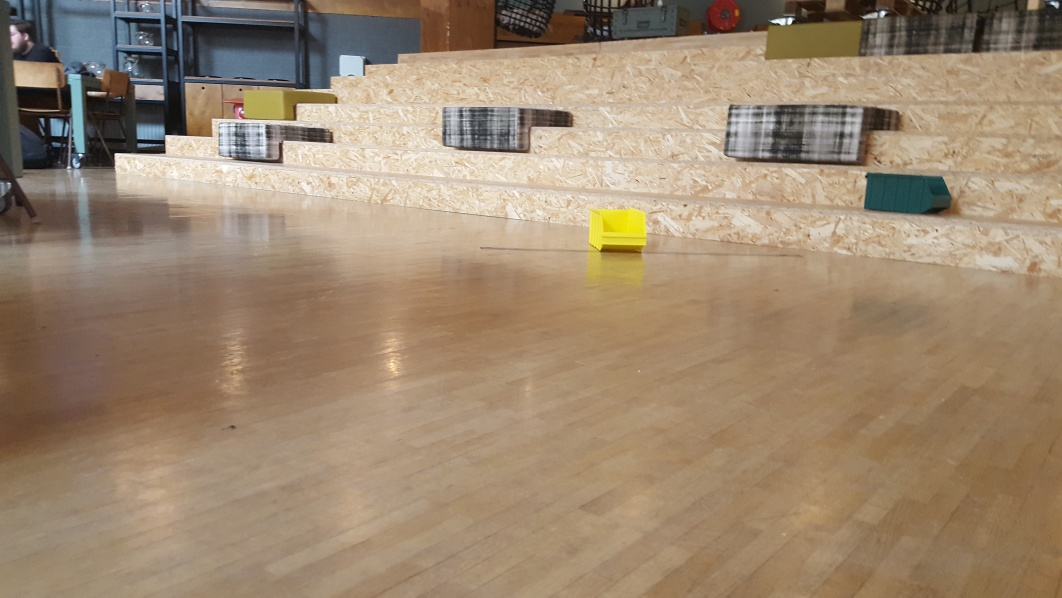tray: (857, 169, 956, 215), (585, 207, 650, 252)
